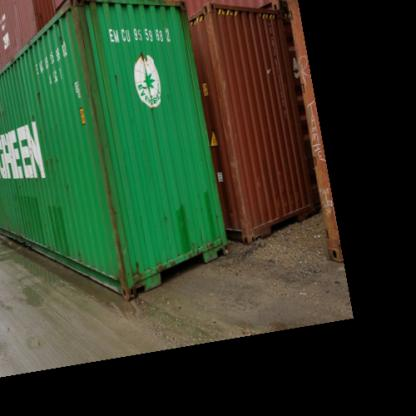Damage: (87, 100, 128, 290), (64, 0, 96, 98)
